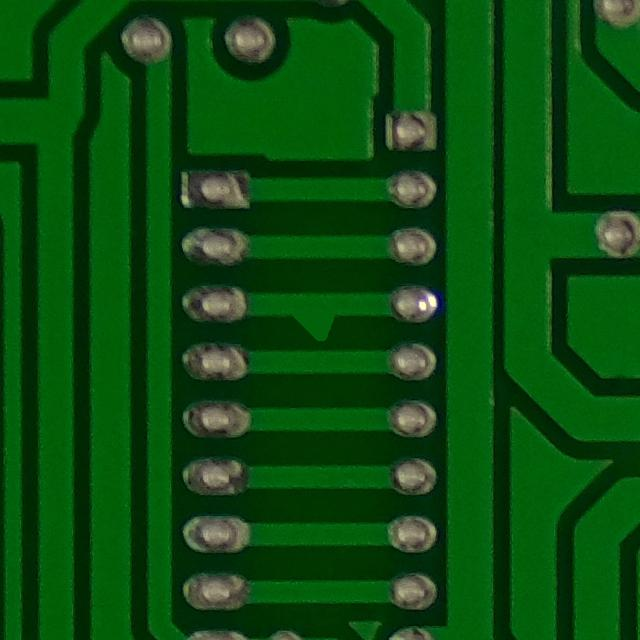spur: (279, 291, 362, 349)
